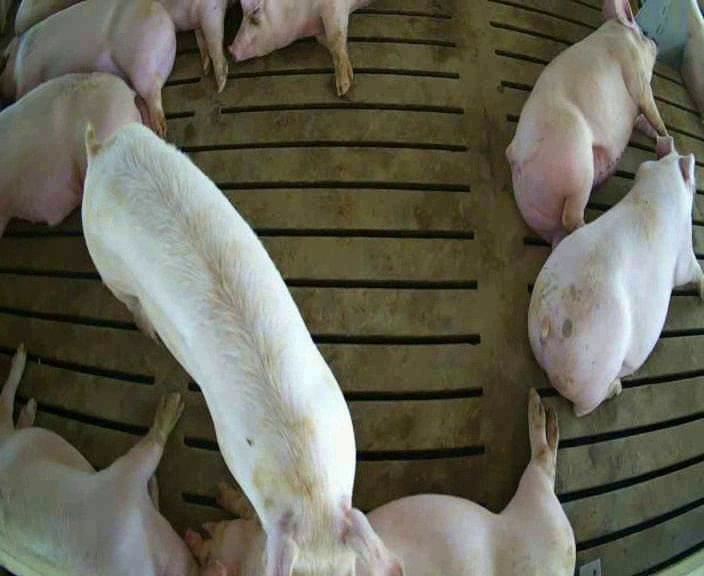pig: (82, 126, 399, 572), (528, 135, 703, 415), (506, 1, 667, 244), (0, 2, 175, 136), (0, 73, 140, 235), (229, 2, 365, 95)
